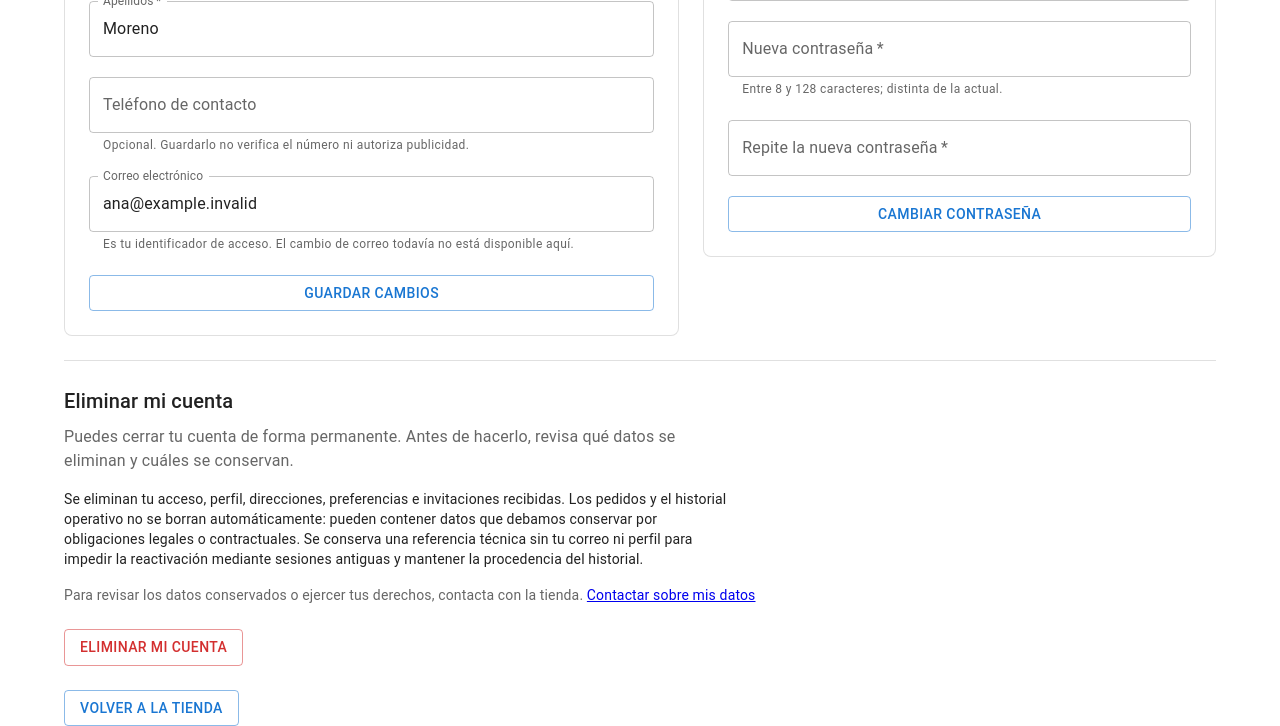
Scenario: clears local user state only after confirmed deletion
(page scrolled)
Click the button "Eliminar mi cuenta": (154, 648) [64,629,243,666]
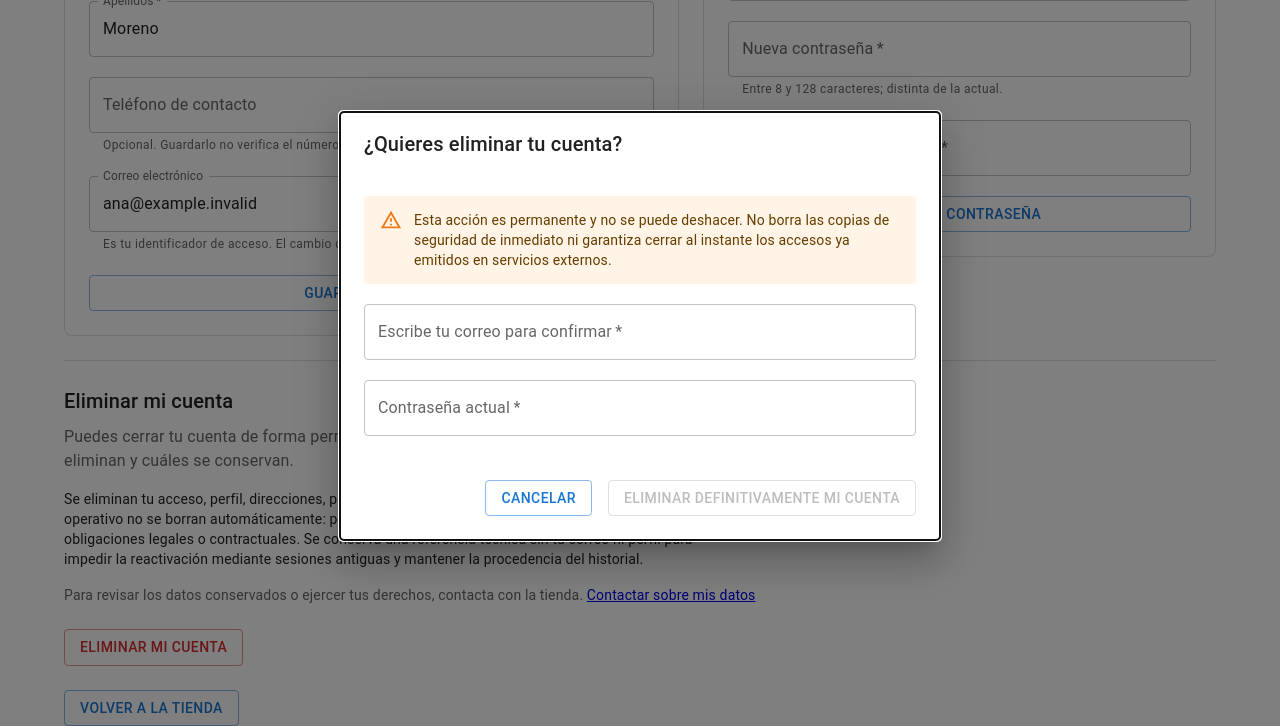
In the field labelled "Escribe tu correo para confirmar": (640, 332) [364,304,916,360], type "ana@example.invalid"
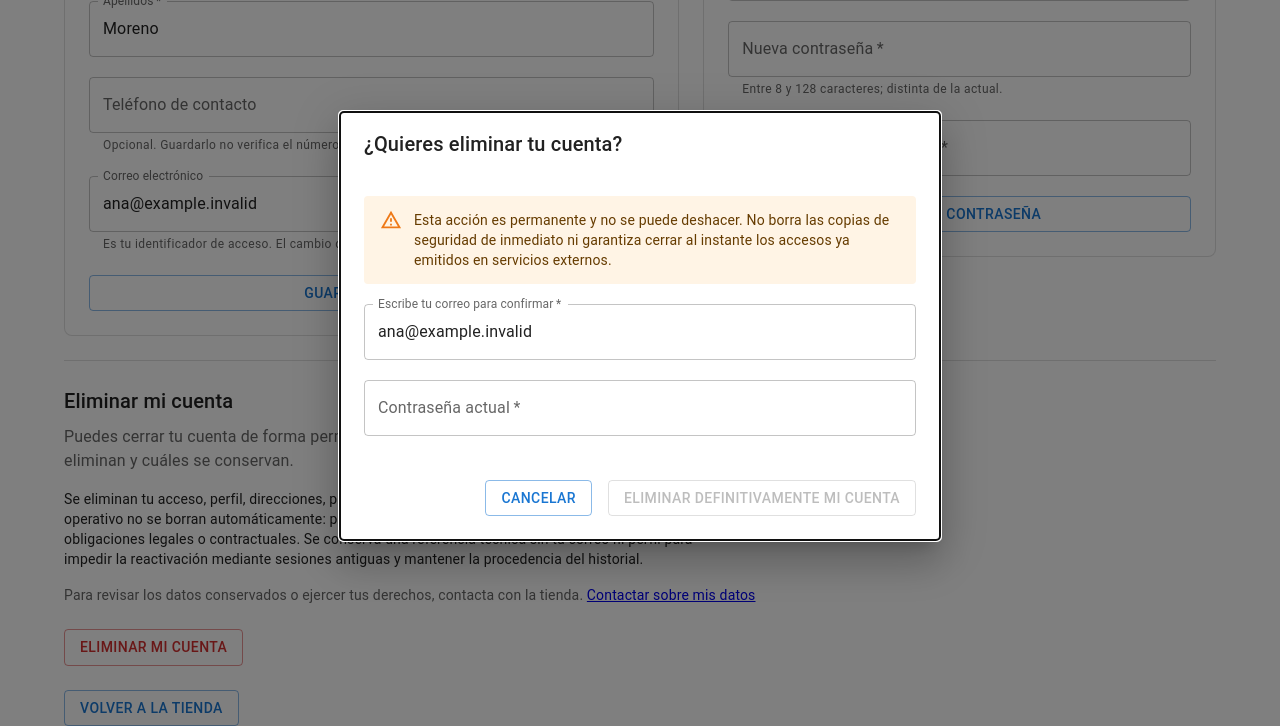
In the password field labelled "Contraseña actual": (640, 408) [364,380,916,436], type "current-secret"
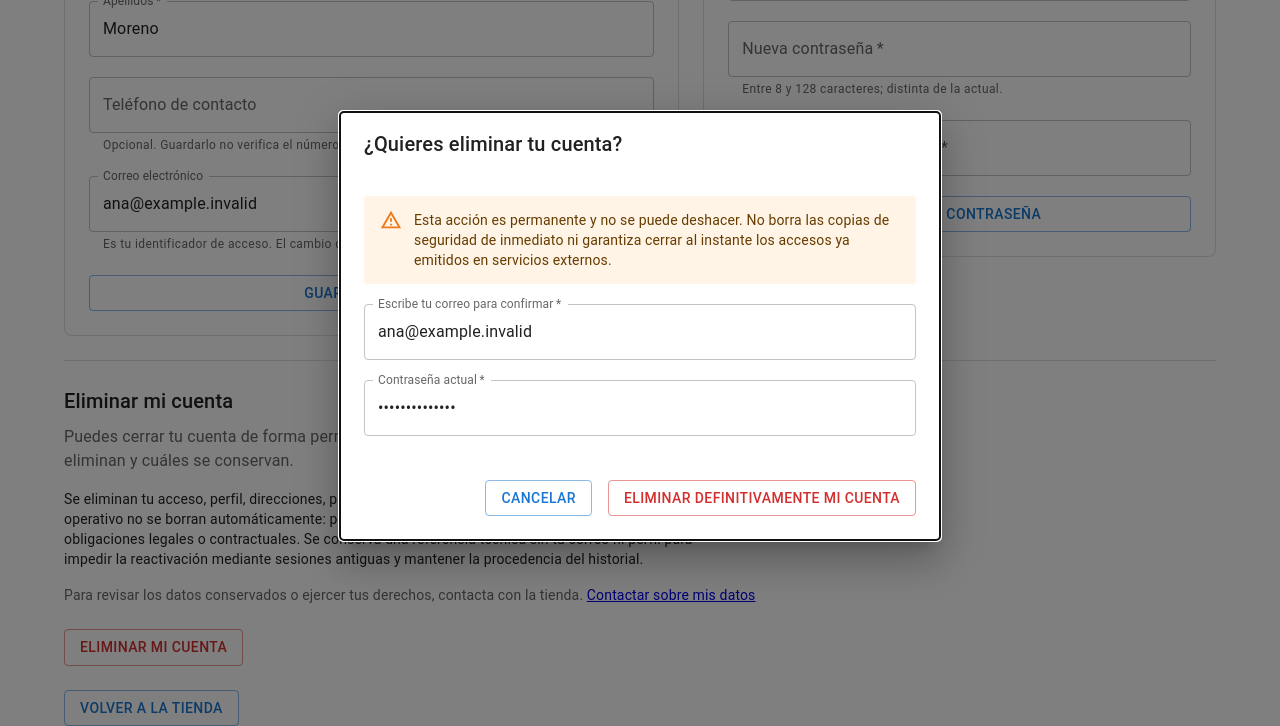
Click the button "Eliminar definitivamente mi cuenta": (762, 498) [608,480,916,516]
(page scrolled)
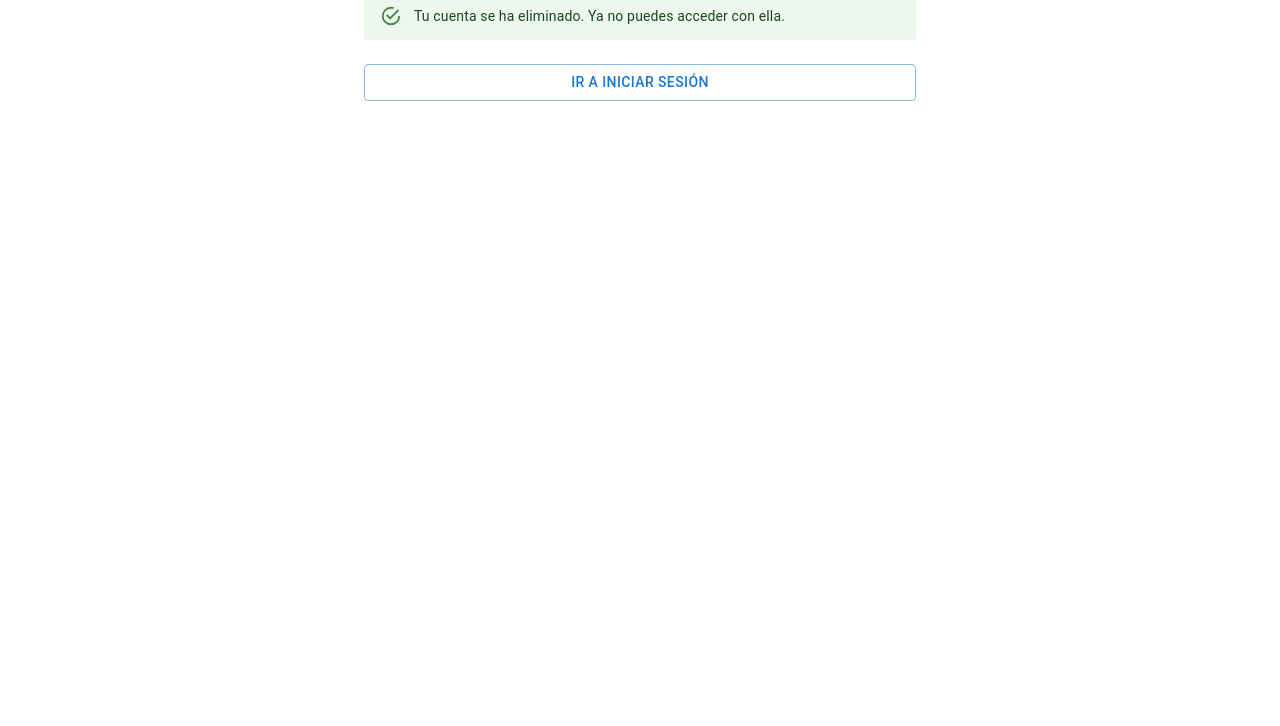
Check: the text "Tu cuenta se ha eliminado. Ya no puedes acceder con ella." is shown, box [414,8,785,24]
